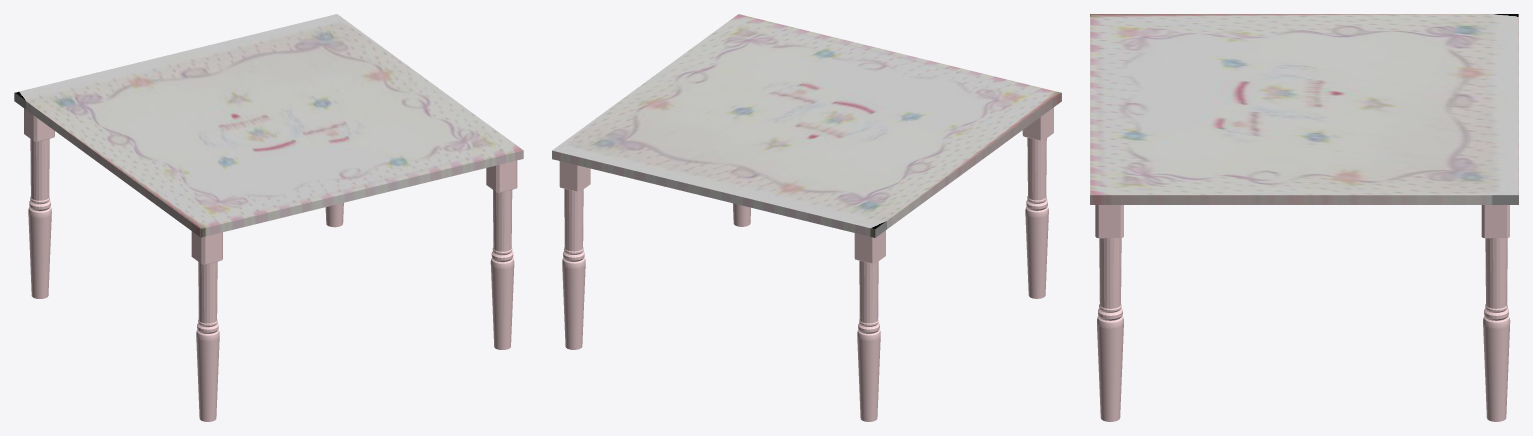
The model's file is kiddie_table_model.fbx.
3 renders of one model, left to right at view 1: azimuth 30°, elevation 25°; view 2: azimuth 150°, elevation 25°; view 3: azimuth 270°, elevation 25°, orthographic. The views are drawn at different scales.
Parts seen in each view (by area): view 1: pCylinder13; view 2: pCylinder13; view 3: pCylinder13.
Boxes of the visible parts, box(x1,y1,x2,y2) form: pCylinder13: box(14, 14, 523, 421); pCylinder13: box(552, 14, 1061, 421); pCylinder13: box(1090, 14, 1518, 421).
Size of the model in its own units: 0.0759 by 0.0448 by 0.0759.
